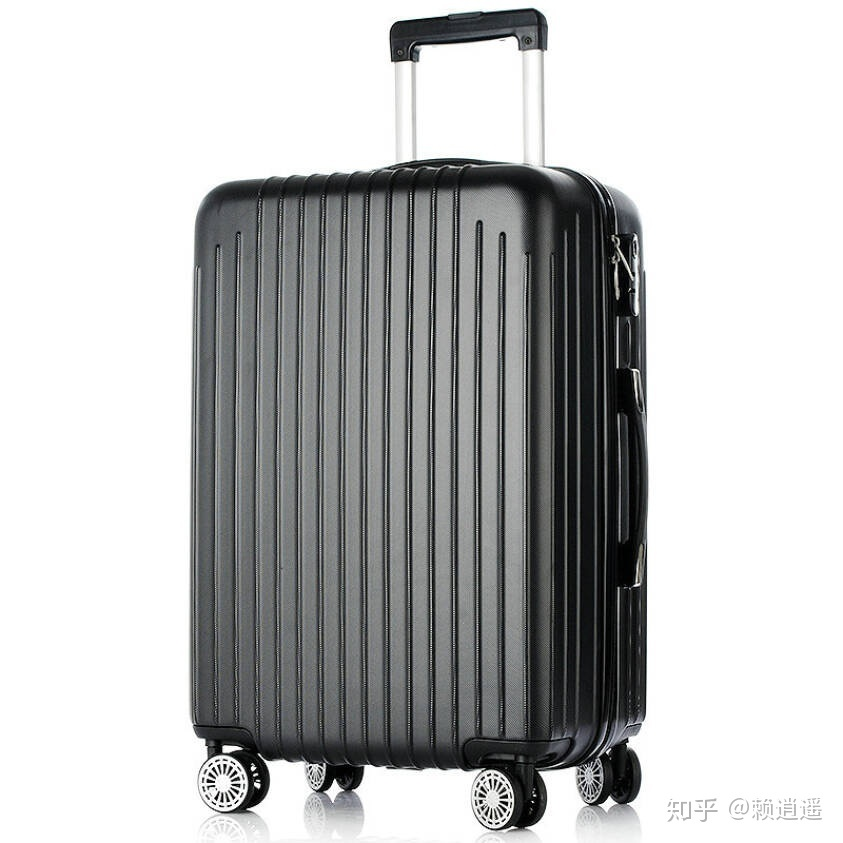box: (191, 163, 644, 774)
handle: (615, 366, 648, 588)
wheel: (471, 768, 549, 831), (196, 751, 269, 815), (575, 748, 642, 805), (304, 763, 368, 794)
